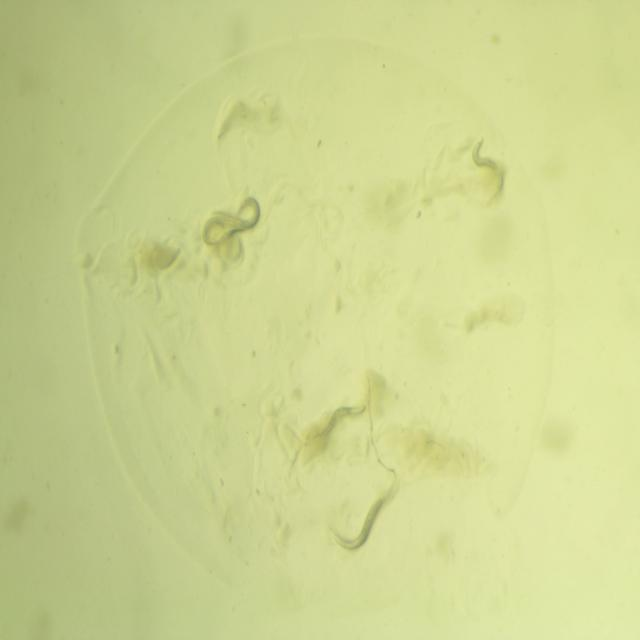worm: (326, 484, 397, 556), (305, 395, 372, 450), (207, 186, 265, 235), (466, 132, 507, 201), (196, 215, 252, 252)
